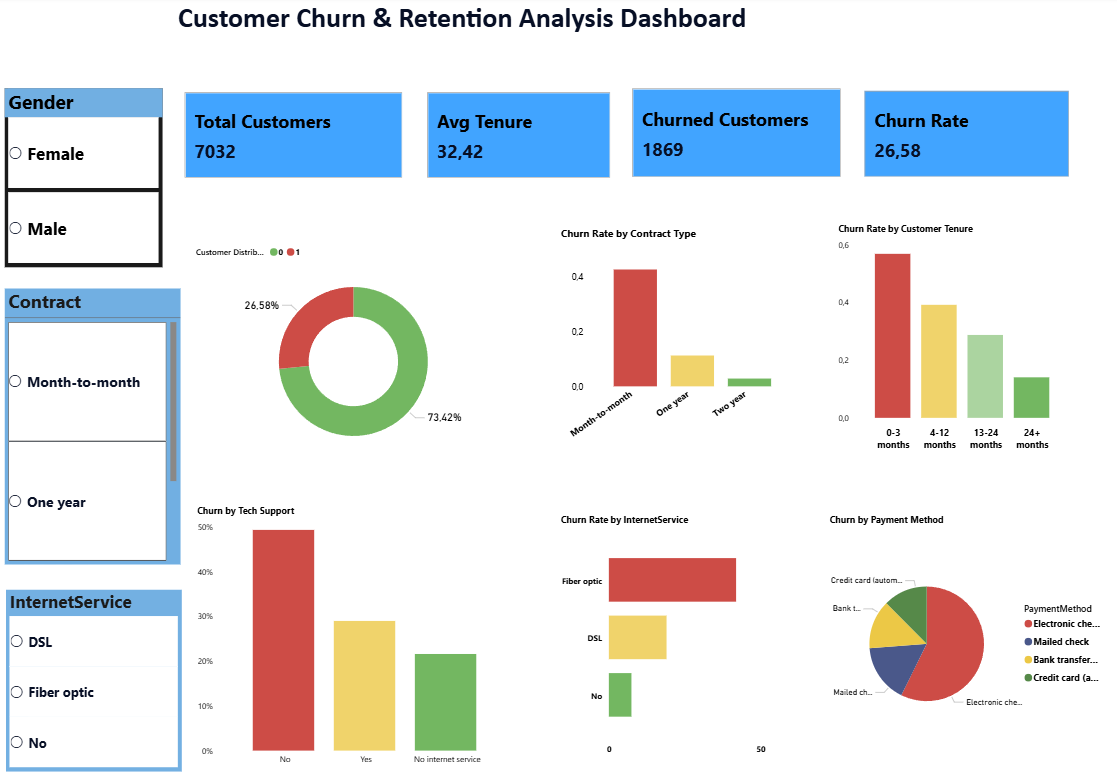

The page's visual inventory and layout, read from the dashboard file:
{"tool":"powerbi","page":{"name":"Page 1","canvas":[1500,1200],"ordinal":0},"visuals":[{"type":"cardVisual","fields":{"Data":["CountNonNull(Cleaned_data_Churn_Analysis.customerID)"]},"box":[246,164,300,124],"z":0},{"type":"shape","box":[11.6,0,1259.3,150],"z":1000},{"type":"textbox","box":[7.1,42.4,1229.6,68.3],"z":2000},{"type":"cardVisual","fields":{"Data":["Cleaned_data_Churn_Analysis.Avg Tenure"]},"box":[570,164,254,124],"z":3000},{"type":"cardVisual","fields":{"Data":["Cleaned_data_Churn_Analysis.Churned Customers"]},"box":[844,158,288,128],"z":4000},{"type":"cardVisual","fields":{"Data":["Cleaned_data_Churn_Analysis.Churn Rate"]},"box":[1154,162,282,124],"z":5000},{"type":"donutChart","fields":{"Category":["Cleaned_data_Churn_Analysis.Churn"],"Y":["CountNonNull(Cleaned_data_Churn_Analysis.customerID)"]},"box":[262,346,430,318],"z":5001},{"type":"columnChart","title":"Churn Rate by Contract Type","fields":{"Category":["Cleaned_data_Churn_Analysis.Contract"],"Y":["Avg(Cleaned_data_Churn_Analysis.Churn)"]},"box":[748,346,324,302],"z":5002},{"type":"clusteredColumnChart","title":"Churn Rate by Customer Tenure","fields":{"Category":["Cleaned_data_Churn_Analysis.TenureGroup"],"Y":["Avg(Cleaned_data_Churn_Analysis.Churn)"]},"box":[1118,342,318,312],"z":5003},{"type":"columnChart","title":"Churn by Tech Support","fields":{"Category":["Cleaned_data_Churn_Analysis.TechSupport"],"Y":["Sum(Cleaned_data_Churn_Analysis.Churn)"]},"box":[264,718,430,356],"z":5004},{"type":"barChart","fields":{"Y":["Cleaned_data_Churn_Analysis.Churn Rate"],"Category":["Cleaned_data_Churn_Analysis.InternetService"]},"box":[748,730,324,332],"z":5005},{"type":"pieChart","title":"Churn by Payment Method","fields":{"Category":["Cleaned_data_Churn_Analysis.PaymentMethod"],"Y":["Cleaned_data_Churn_Analysis.Churned Customers"]},"box":[1106,730,380,332],"z":5006},{"type":"listSlicer","title":"Gender","fields":{"Values":["Cleaned_data_Churn_Analysis.gender"]},"box":[12,164,210,238],"z":5007},{"type":"listSlicer","fields":{"Values":["Cleaned_data_Churn_Analysis.Contract"]},"box":[12,430,234,368],"z":5008},{"type":"listSlicer","fields":{"Values":["Cleaned_data_Churn_Analysis.InternetService"]},"box":[14,832,234,242],"z":5010}]}

Visuals, with their boxes on the page's 1500x1200 design canvas (x1, y1, x2, y2). These are canvas units, not pixel positions in the 1117x776 screenshot, which may show the page scaled, cropped or inside an application window:
cardVisual - CountNonNull(Cleaned_data_Churn_Analysis.customerID): bbox=[246, 164, 546, 288]
shape: bbox=[12, 0, 1271, 150]
textbox: bbox=[7, 42, 1237, 111]
cardVisual - Cleaned_data_Churn_Analysis.Avg Tenure: bbox=[570, 164, 824, 288]
cardVisual - Cleaned_data_Churn_Analysis.Churned Customers: bbox=[844, 158, 1132, 286]
cardVisual - Cleaned_data_Churn_Analysis.Churn Rate: bbox=[1154, 162, 1436, 286]
donutChart - Cleaned_data_Churn_Analysis.Churn x CountNonNull(Cleaned_data_Churn_Analysis.customerID): bbox=[262, 346, 692, 664]
"Churn Rate by Contract Type" columnChart: bbox=[748, 346, 1072, 648]
"Churn Rate by Customer Tenure" clusteredColumnChart: bbox=[1118, 342, 1436, 654]
"Churn by Tech Support" columnChart: bbox=[264, 718, 694, 1074]
barChart - Cleaned_data_Churn_Analysis.Churn Rate x Cleaned_data_Churn_Analysis.InternetService: bbox=[748, 730, 1072, 1062]
"Churn by Payment Method" pieChart: bbox=[1106, 730, 1486, 1062]
"Gender" listSlicer: bbox=[12, 164, 222, 402]
listSlicer - Cleaned_data_Churn_Analysis.Contract: bbox=[12, 430, 246, 798]
listSlicer - Cleaned_data_Churn_Analysis.InternetService: bbox=[14, 832, 248, 1074]
